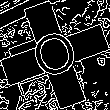O_S: (26, 24, 84, 86)
